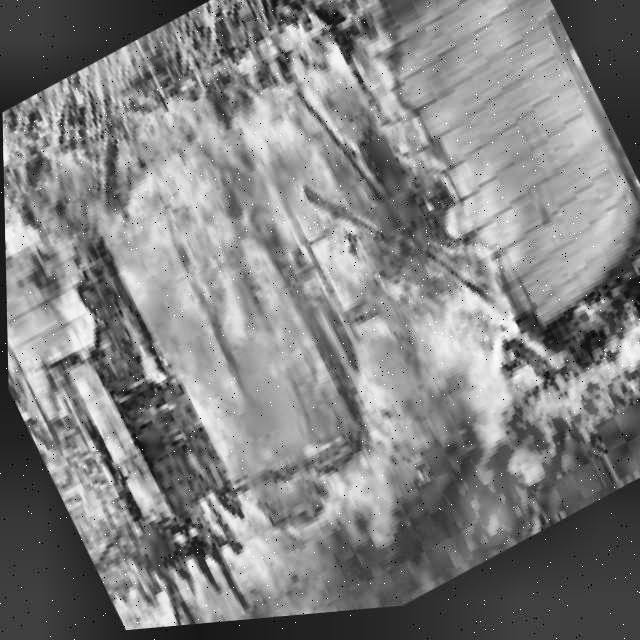Fire: (0, 0, 640, 640)
Smoke: (264, 351, 640, 622)
